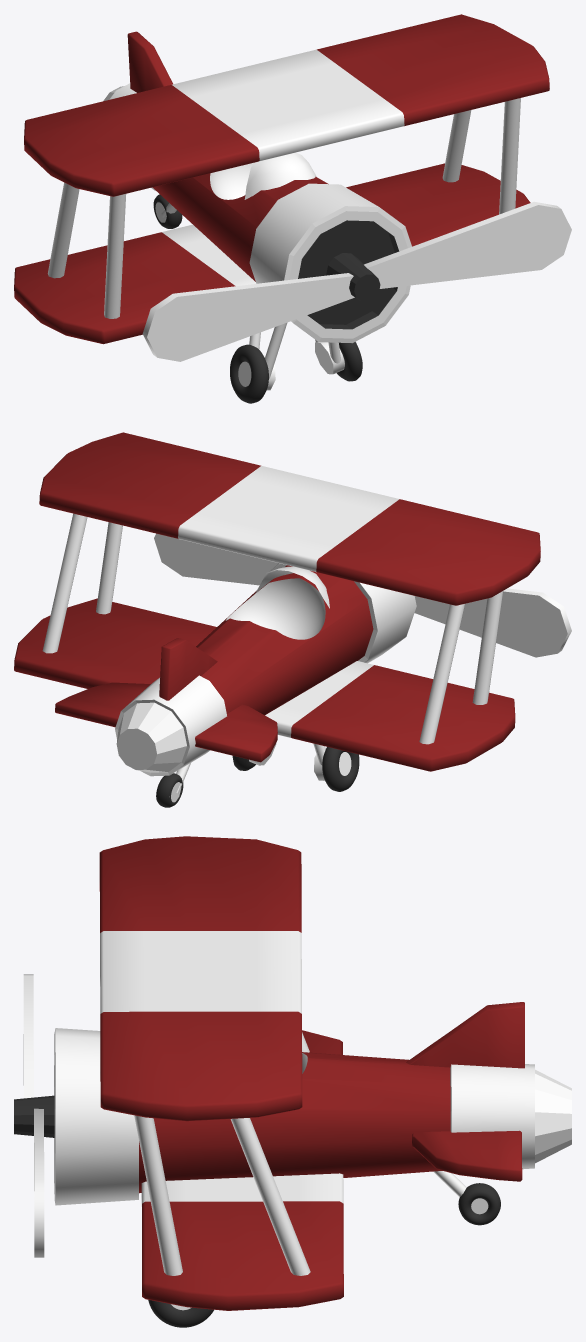
The model's file is airplane_006.glb.
3 views of the same model, one above another, from view 1: azimuth 30°, elevation 25°; view 2: azimuth 150°, elevation 25°; view 3: azimuth 270°, elevation 25° (orthographic). The views are drawn at different scales.
Parts seen in each view (by area): view 1: object_0; view 2: object_0; view 3: object_0.
Boxes of the visible parts, left/top/right/bottom form: object_0: left=14, top=14, right=571, bottom=403; object_0: left=14, top=432, right=571, bottom=807; object_0: left=14, top=836, right=571, bottom=1327.
Size of the model in its own units: 5.59 by 3.11 by 4.81.
